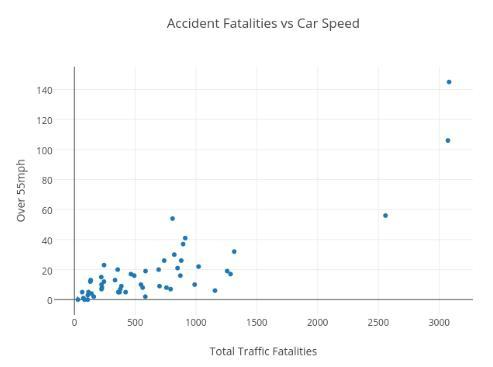axis: (53, 295, 475, 303), (71, 64, 77, 316)
point: (380, 208, 394, 221), (442, 77, 456, 88), (443, 135, 455, 146), (154, 265, 165, 274), (230, 247, 240, 256), (180, 234, 191, 242), (140, 267, 151, 275), (160, 256, 169, 265), (86, 277, 95, 286), (168, 215, 178, 223), (177, 240, 187, 248), (141, 293, 151, 301), (137, 285, 148, 292), (170, 251, 179, 259), (97, 273, 106, 281), (156, 282, 164, 291), (166, 285, 175, 293), (195, 263, 204, 271), (191, 280, 199, 289), (173, 265, 183, 272), (101, 262, 109, 270), (115, 289, 123, 297), (162, 283, 170, 291), (122, 289, 131, 296), (177, 257, 186, 264), (210, 287, 219, 294), (113, 266, 123, 272), (117, 283, 127, 289), (127, 271, 135, 278), (79, 289, 87, 296), (75, 296, 83, 303), (90, 294, 98, 301), (111, 277, 119, 284), (177, 272, 185, 279), (223, 267, 231, 274), (226, 271, 234, 278), (130, 273, 139, 279), (98, 287, 107, 293), (99, 279, 108, 285), (137, 281, 146, 287), (86, 289, 94, 295), (83, 298, 90, 304)
